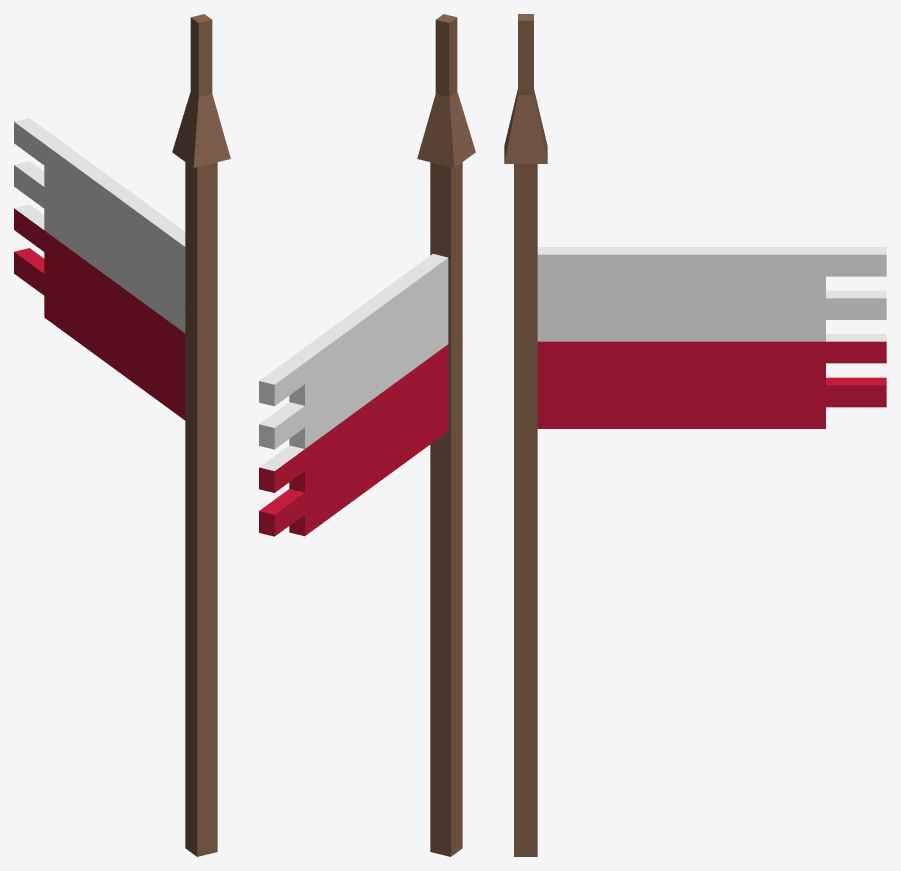
Rendered from flag-poland.fbx.
3 renders of one model, left to right at view 1: azimuth 30°, elevation 25°; view 2: azimuth 150°, elevation 25°; view 3: azimuth 270°, elevation 25°, orthographic.
Parts seen in each view (by area): view 1: poland-flag; view 2: poland-flag; view 3: poland-flag.
Part boxes in pixels (x1,y1,x2,y2): poland-flag: (14,14,230,856); poland-flag: (259,14,475,856); poland-flag: (504,14,886,856).
Size of the model in its own units: 0.8952 by 19.08 by 7.92.
